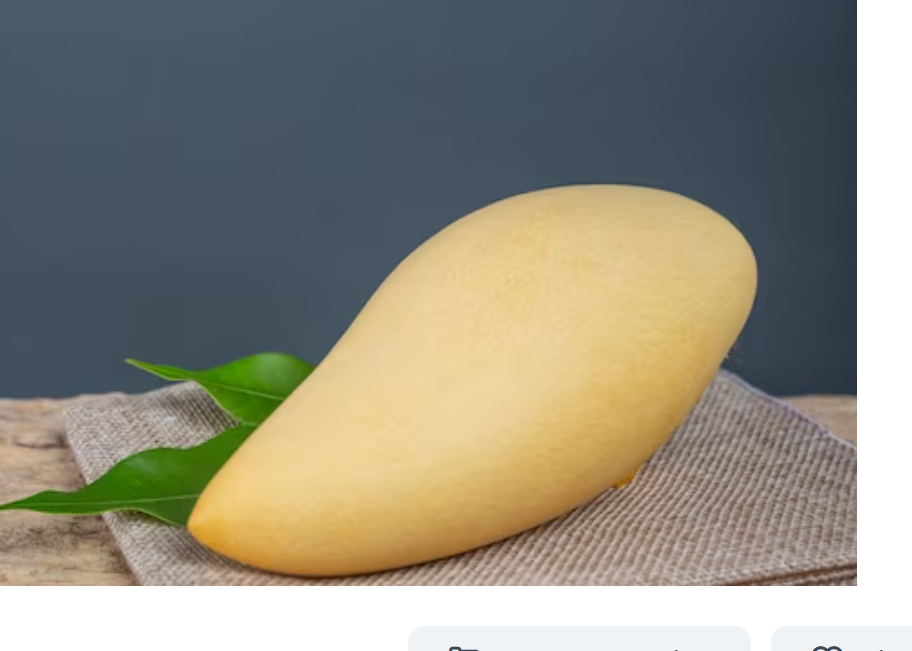mango: (180, 180, 763, 575)
